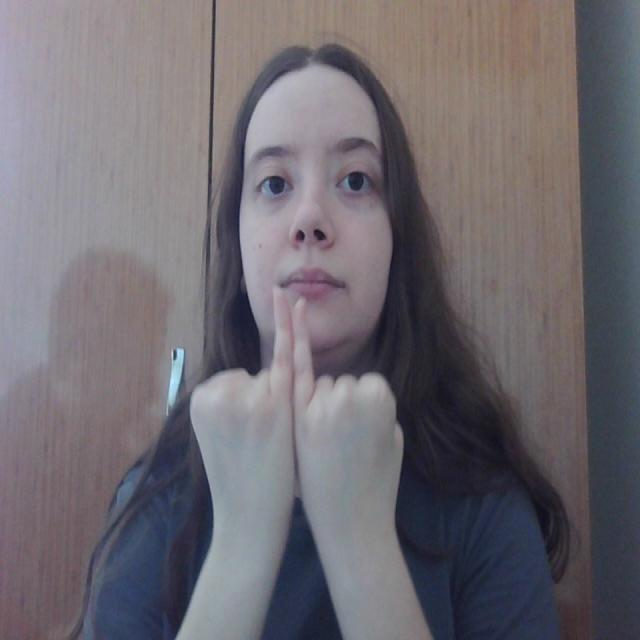Kardes: (185, 282, 410, 552)
